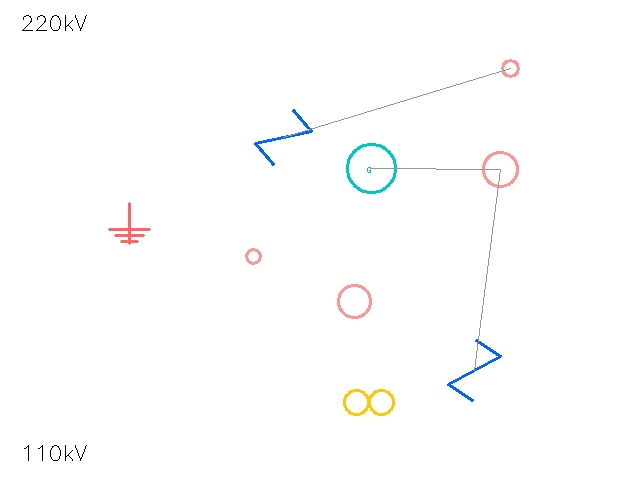circuit_breaker: (445, 341, 503, 399), (255, 109, 311, 165)
disconnect_switch: (466, 135, 534, 203)
fuse: (321, 268, 387, 334), (494, 52, 526, 84)
generator: (347, 144, 395, 192)
ground: (109, 203, 149, 243)
transformer_2w: (337, 370, 401, 434)
voltage_transformer: (238, 241, 268, 271)
